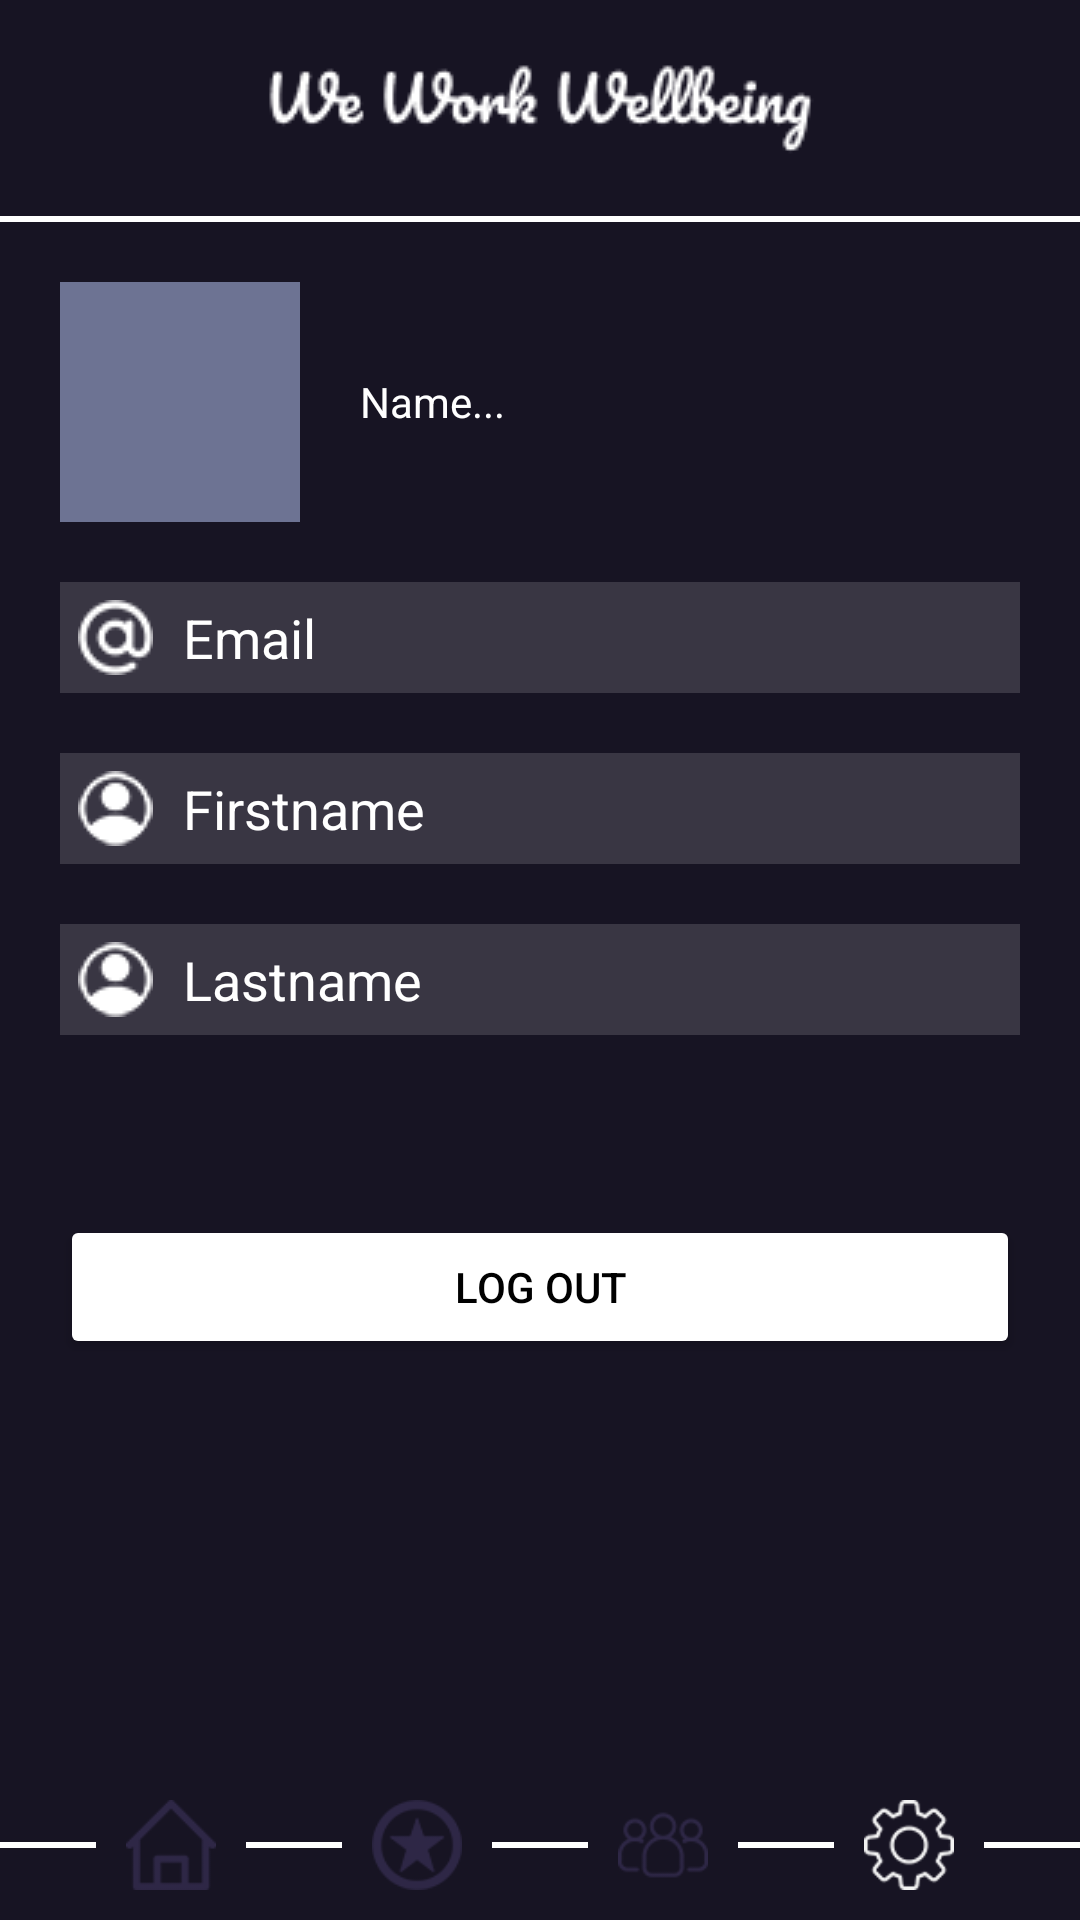

Point at icon controls on the screen. Image size 1080w x 1920h, points as (x=x, y=y).
home: (x=171, y=1845)
settings: (x=909, y=1845)
star: (x=417, y=1845)
team: (x=663, y=1845)
